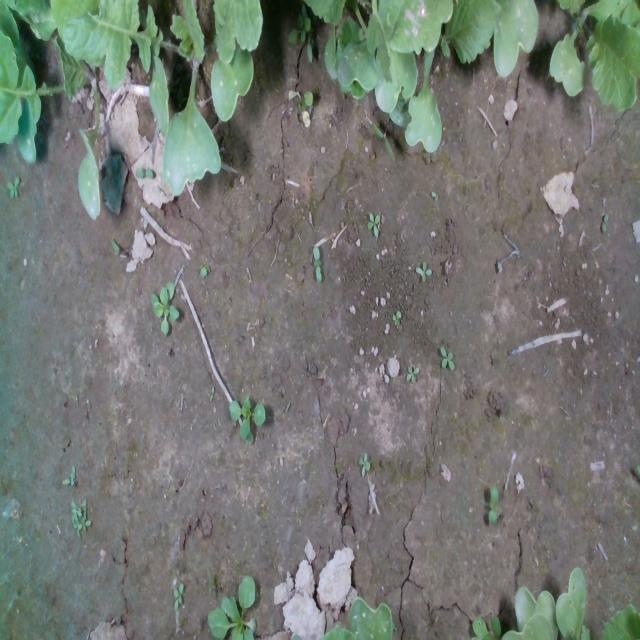weed: (439, 345, 455, 371)
